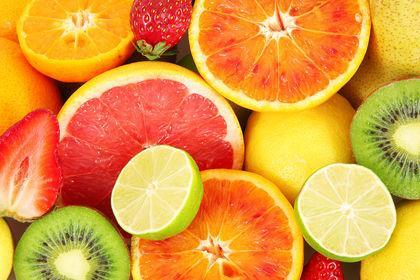apple: (299, 253, 344, 279)
